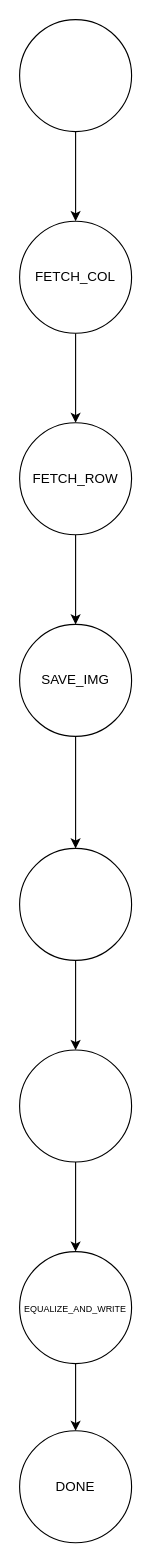
Some shapes in this 151 by 1562 pixel diagram are drawn without their labels. Each missing label, with the centre of its shape:
"COMPUTE_DELTA" goes at point 75,903.
"COMPUTE_SHIFT" goes at point 75,1105.
"IDLE" goes at point 75,75.
